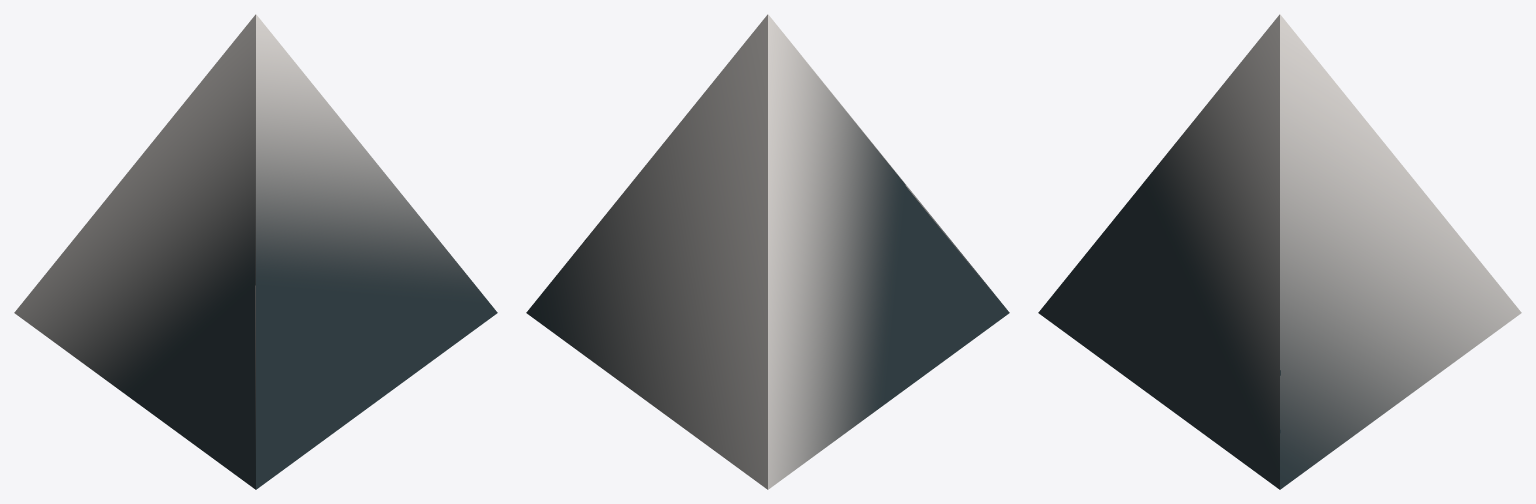
Rendered from Tetrahedron.glb.
3 renders of one model, left to right at view 1: azimuth 30°, elevation 25°; view 2: azimuth 150°, elevation 25°; view 3: azimuth 270°, elevation 25°, orthographic.
Visible parts, largest first — view 1: Tetrahedron; view 2: Tetrahedron; view 3: Tetrahedron.
Part boxes in pixels (left/top/right/bottom): Tetrahedron: left=14, top=14, right=497, bottom=489; Tetrahedron: left=526, top=14, right=1009, bottom=489; Tetrahedron: left=1038, top=14, right=1521, bottom=489.
Bounding box in the file's own units: 1.81 × 1.71 × 2.09.
1 material, 1 textured.
